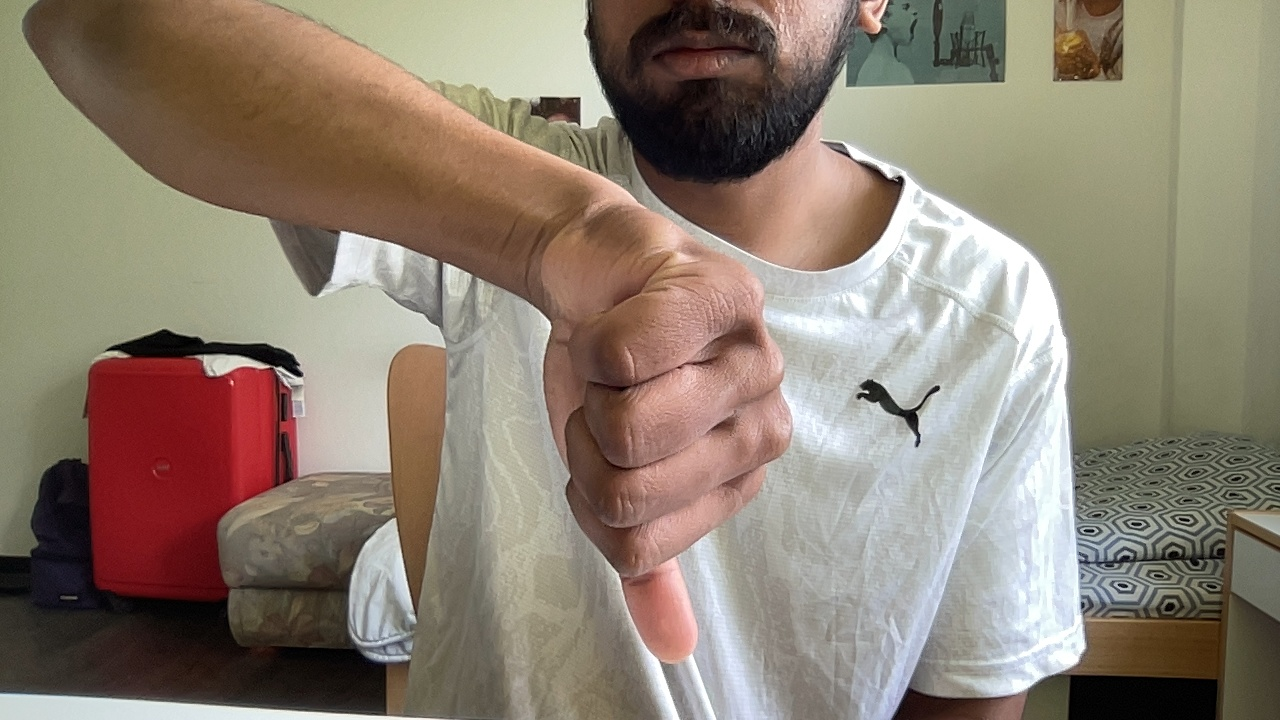ThumbsDown: (538, 204, 800, 670)
